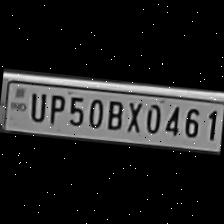0: (84, 94, 106, 130), (142, 100, 163, 136)
1: (202, 106, 222, 142)
4: (161, 102, 182, 138)
5: (63, 92, 87, 128)
6: (180, 104, 202, 140)
B: (104, 96, 126, 132)
P: (44, 90, 66, 126)
U: (25, 88, 47, 124)
X: (122, 98, 145, 135)
